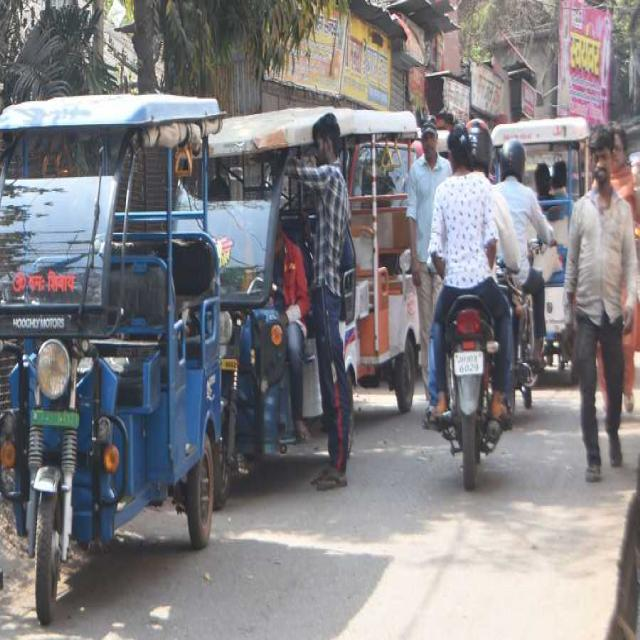motorcycle: (438, 259, 506, 495)
